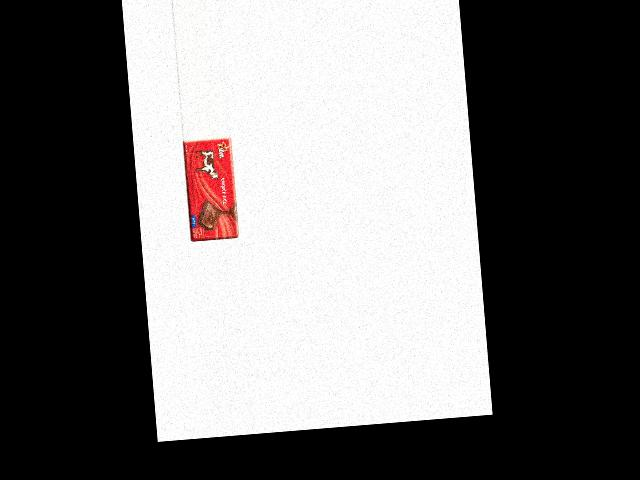chocolate: (182, 136, 239, 242)
